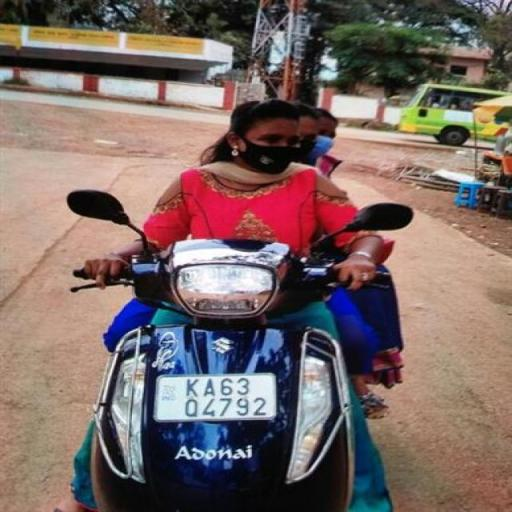tripple riding: (139, 94, 395, 258)
